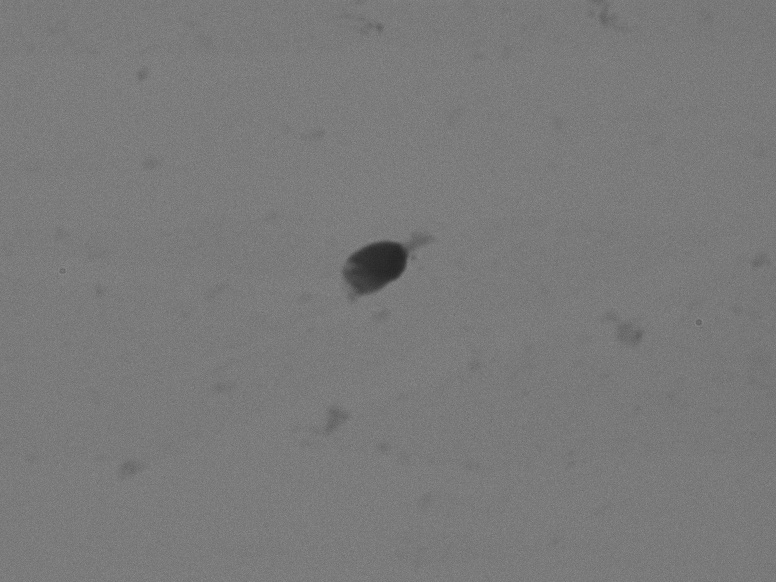Abnormal: (282, 152, 619, 352)
